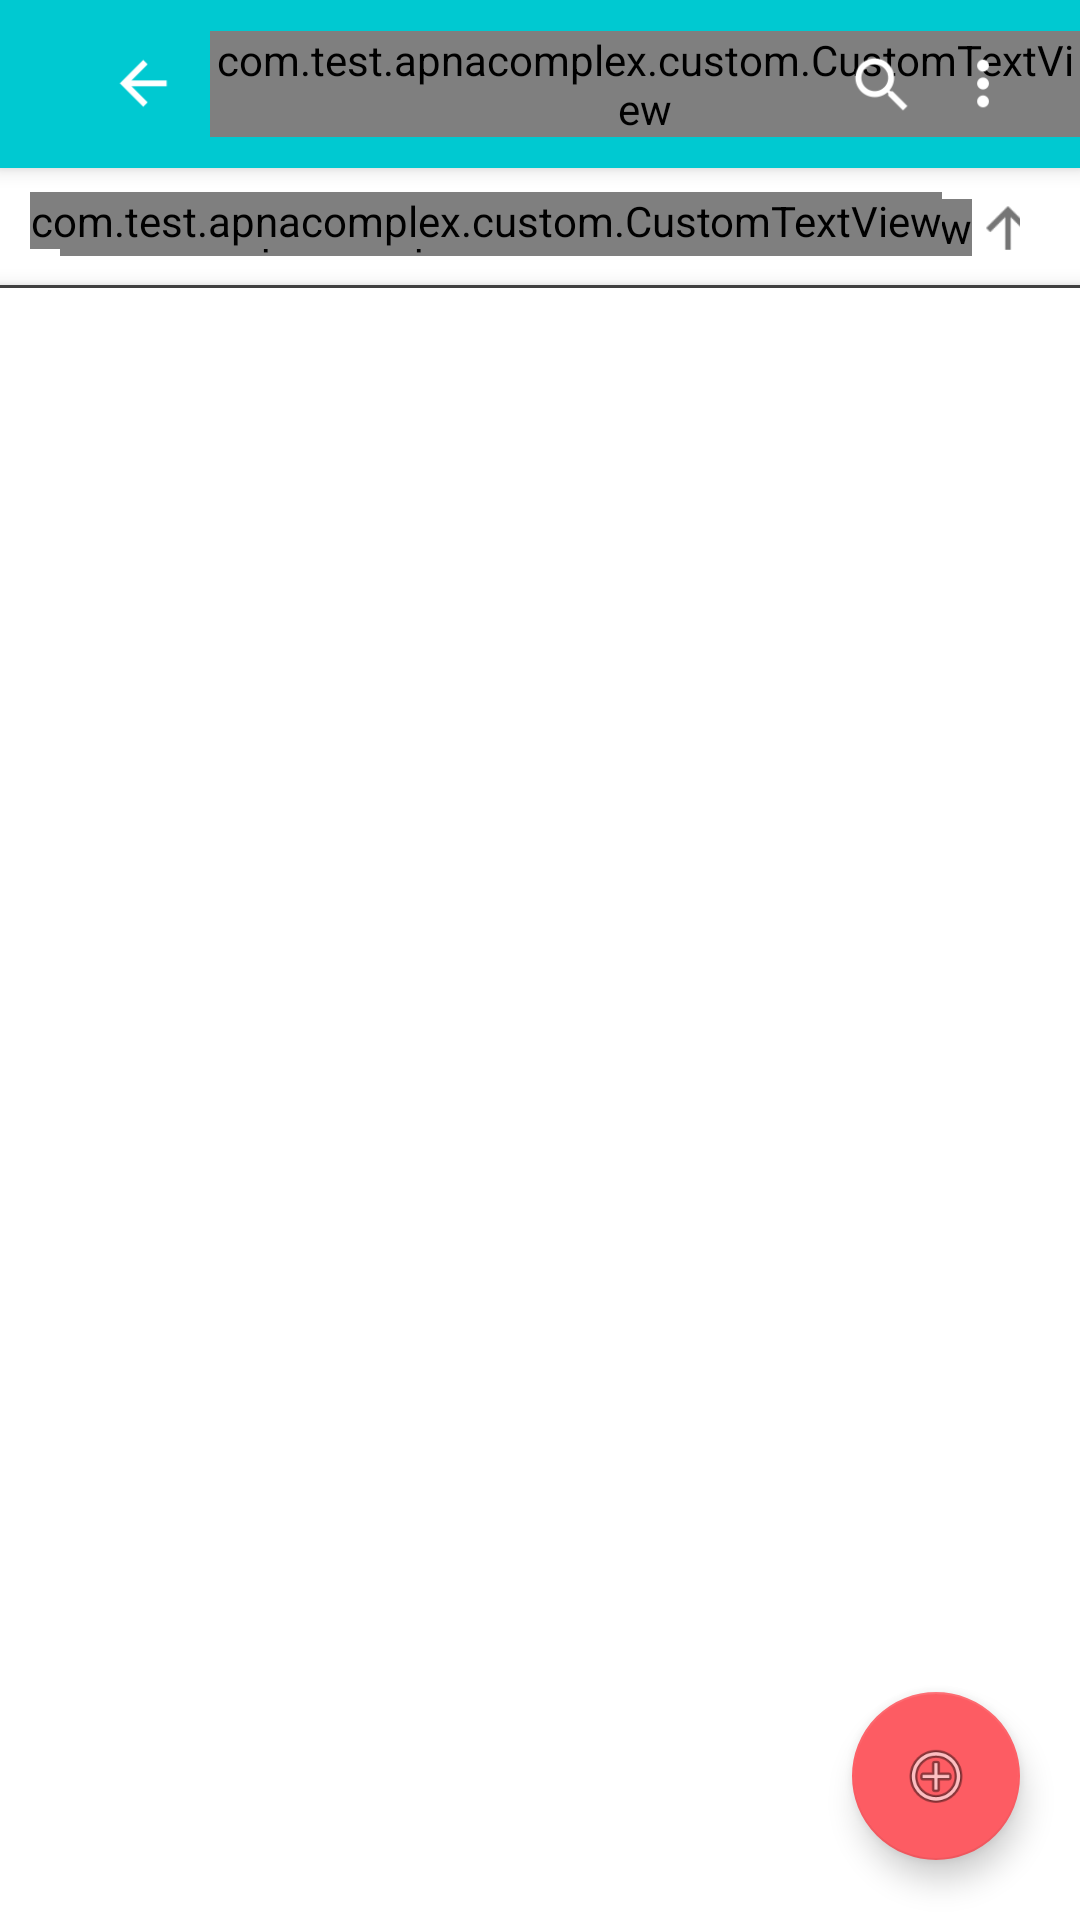

Icon bounding boxes for this 1080px×1920px phone screenshot, format rect(x1, y1, x2, y2):
add: rect(852, 1692, 1020, 1860)
back: rect(119, 59, 168, 107)
search: rect(846, 48, 918, 110)
